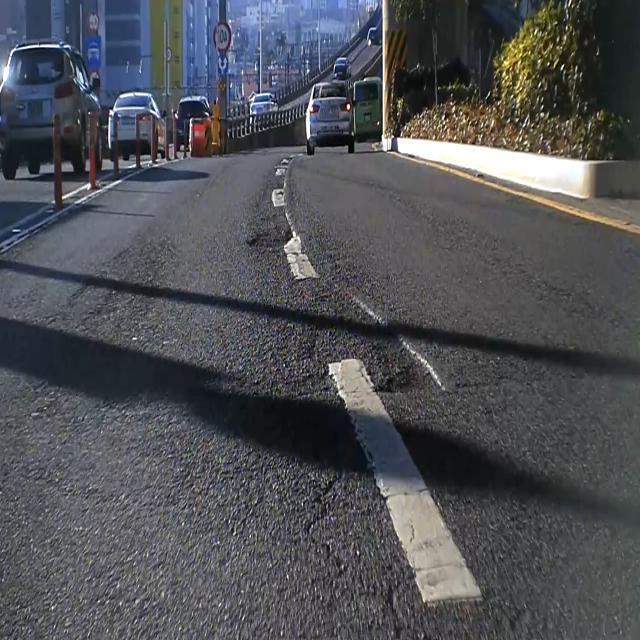pothole: (371, 359, 428, 405), (246, 222, 297, 262)
